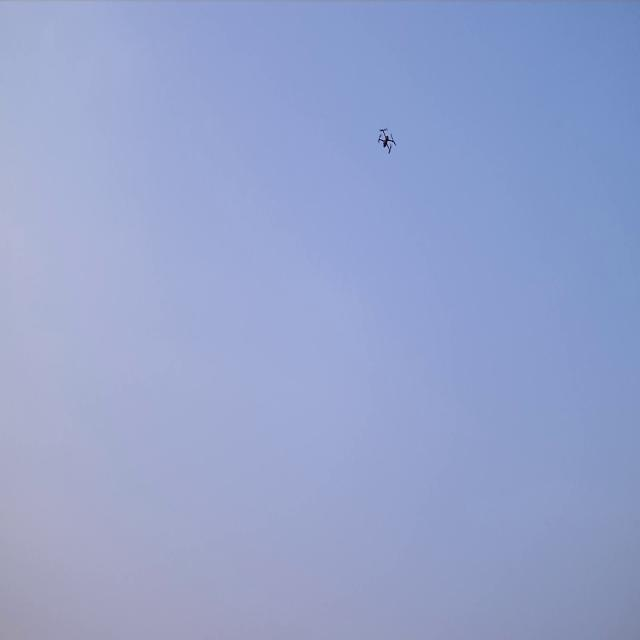UAV: (378, 129, 394, 153)
